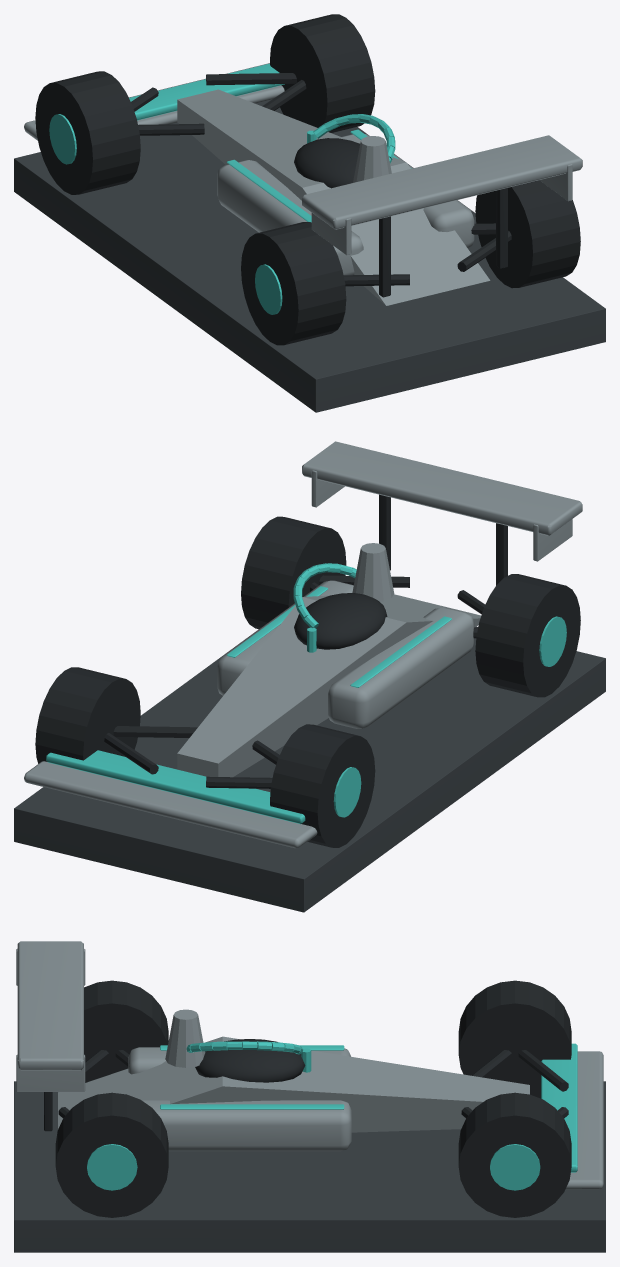
Rendered from mercedes_v06c.glb.
The picture shows the model from 3 angles, top to bottom: view 1: azimuth 30°, elevation 25°; view 2: azimuth 150°, elevation 25°; view 3: azimuth 270°, elevation 25°; orthographic projection. The views are drawn at different scales.
Visible parts, largest first — view 1: VIS_Mercedes, VIS_MercedesPlinth; view 2: VIS_Mercedes, VIS_MercedesPlinth; view 3: VIS_Mercedes, VIS_MercedesPlinth.
Boxes of the visible parts, x1,y1,x2,y2 form: VIS_Mercedes: (24,14,582,345); VIS_MercedesPlinth: (14,100,605,412); VIS_Mercedes: (24,441,582,848); VIS_MercedesPlinth: (14,626,605,912); VIS_Mercedes: (16,941,603,1217); VIS_MercedesPlinth: (14,1081,605,1252).
Size of the model in its own units: 0.412 by 0.2543 by 0.7422.
